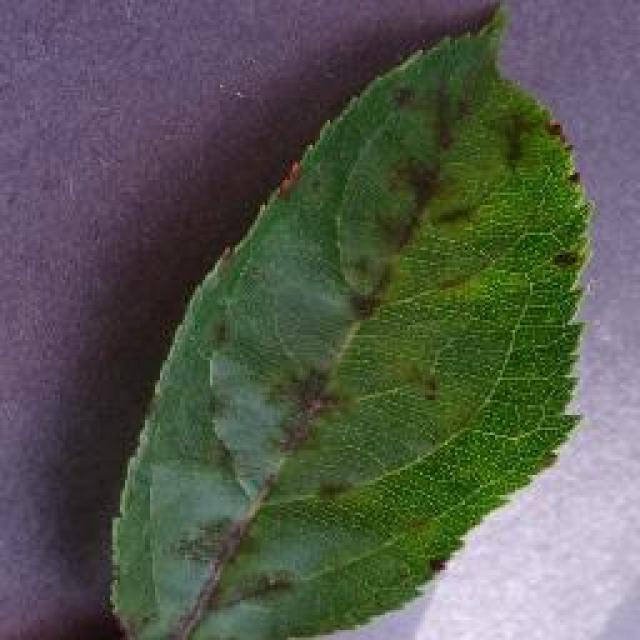apple scab disease: (103, 2, 595, 638)
